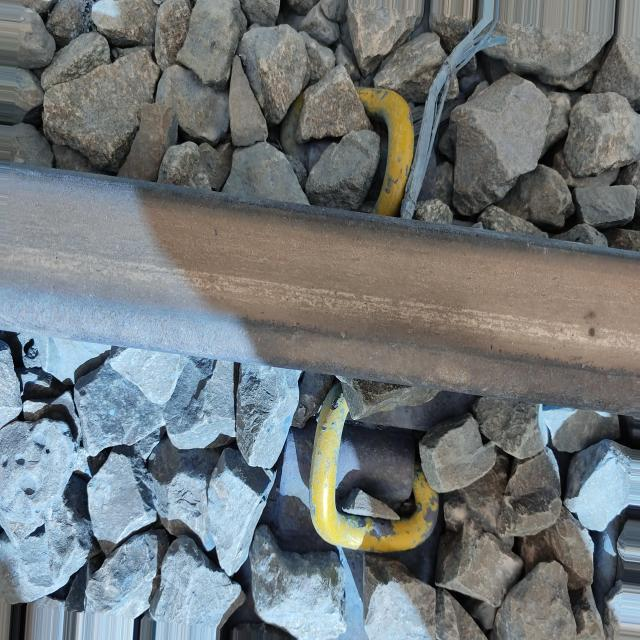Good Fasteners: (260, 383, 439, 552), (356, 88, 414, 217)
